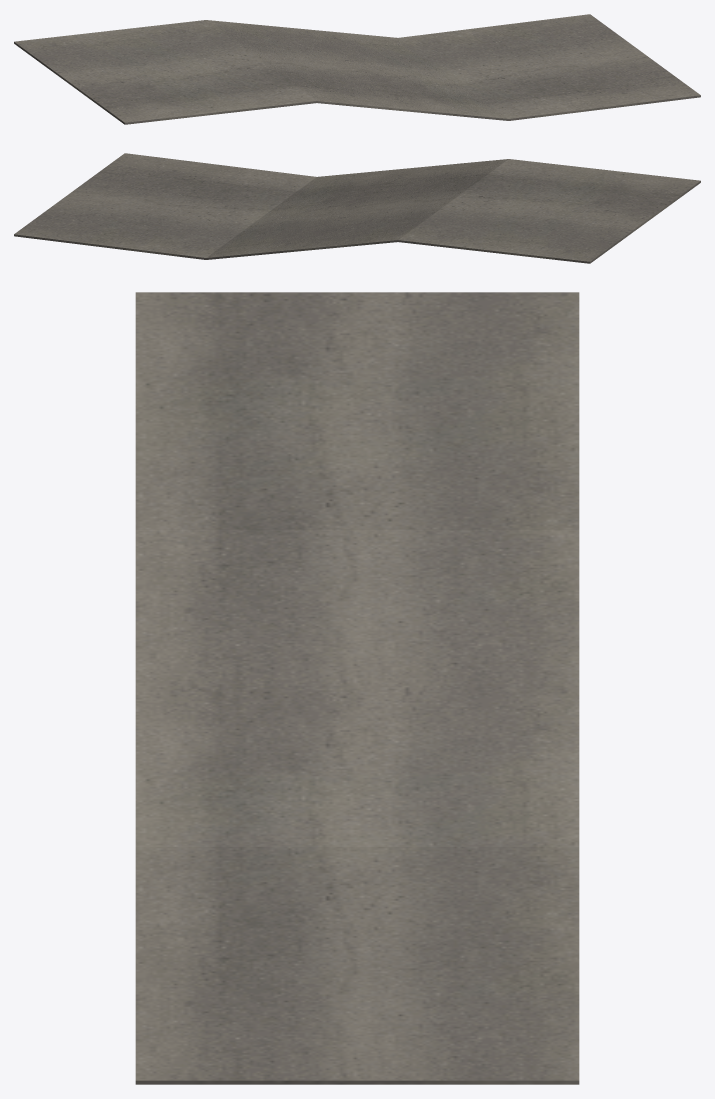
File: Urban_Road3SlopeNoSides_Model.fbx
3 renders of one model, top to bottom at view 1: azimuth 30°, elevation 25°; view 2: azimuth 150°, elevation 25°; view 3: azimuth 270°, elevation 25°, orthographic. The views are drawn at different scales.
Visible parts, largest first — view 1: Urban_Road3SlopeNoSides_Mesh; view 2: Urban_Road3SlopeNoSides_Mesh; view 3: Urban_Road3SlopeNoSides_Mesh.
Part boxes in pixels (x1,y1,x2,y2): Urban_Road3SlopeNoSides_Mesh: (14, 14, 700, 124); Urban_Road3SlopeNoSides_Mesh: (14, 153, 700, 263); Urban_Road3SlopeNoSides_Mesh: (135, 292, 579, 1084).
Bounding box in the file's own units: 48 × 9.16 × 16.
